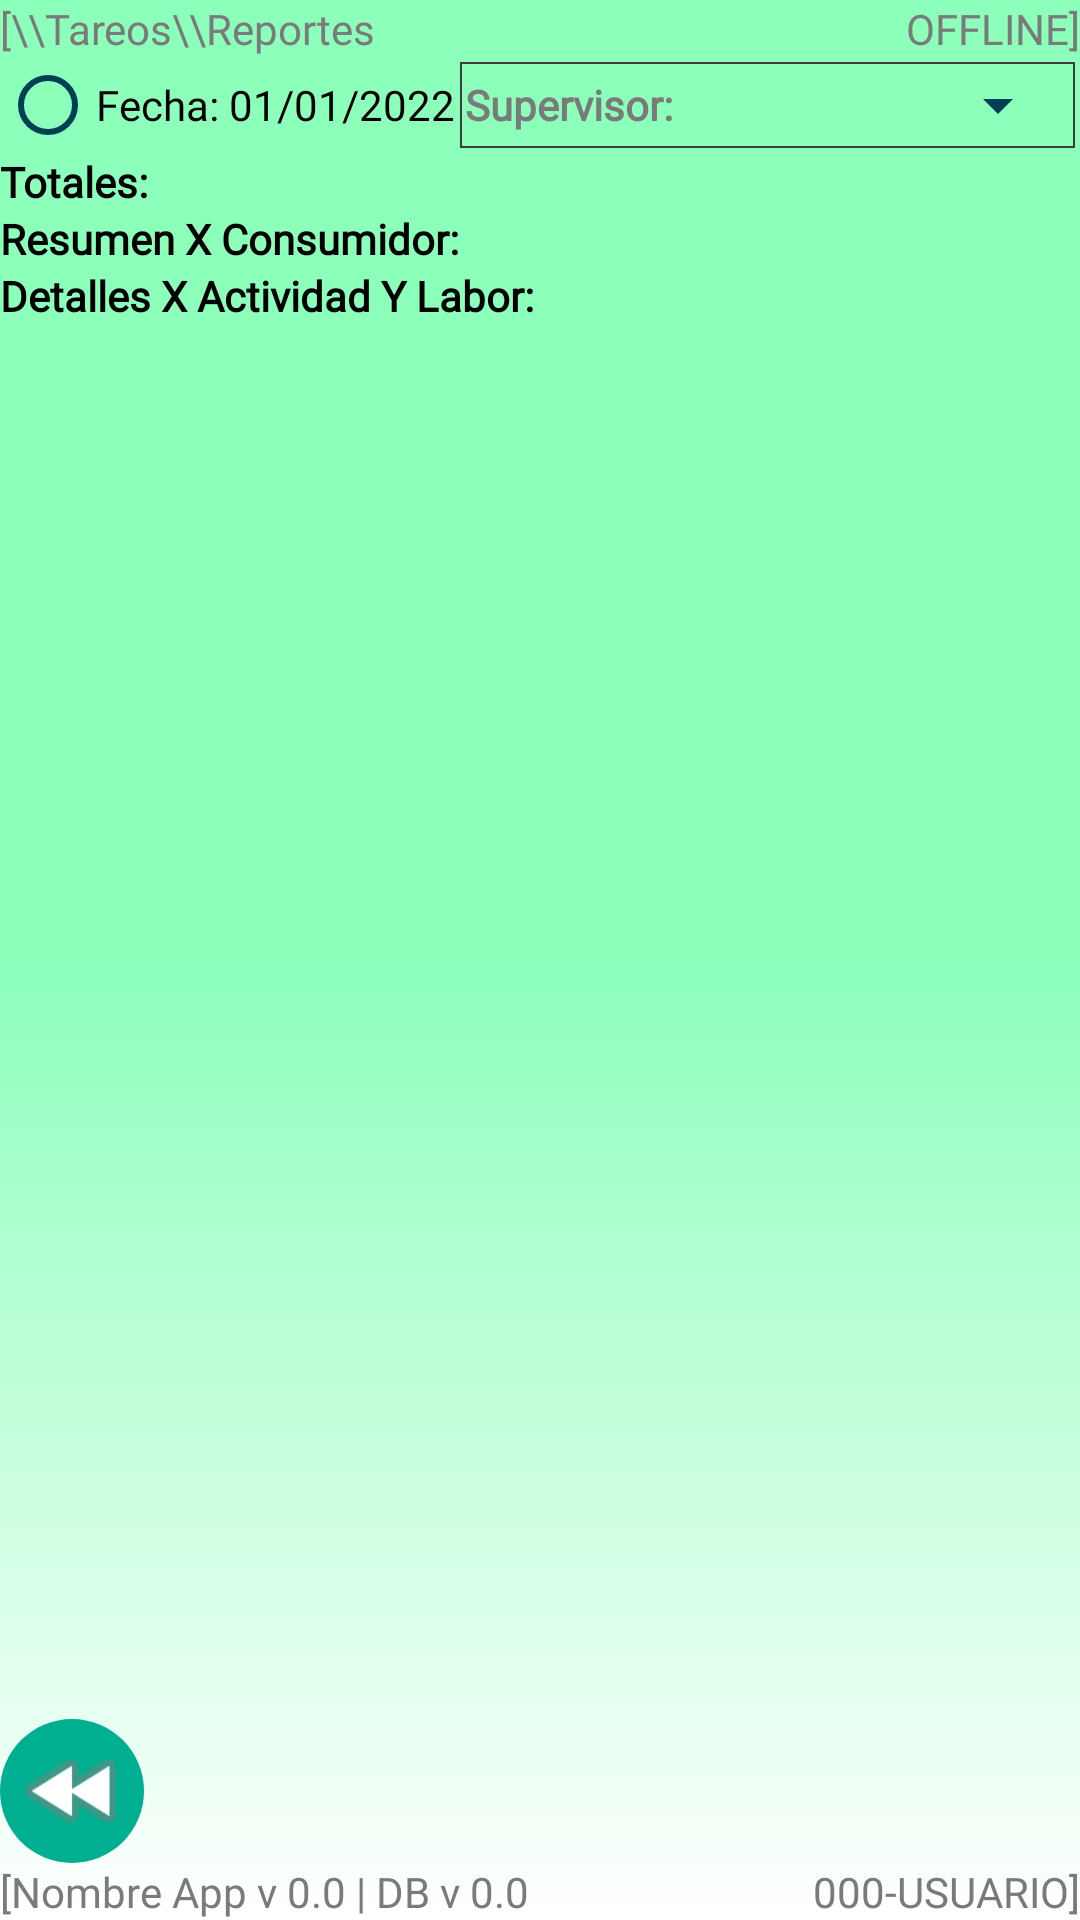

Named icons in this screenshot (1080×1920) and their centers, point (x, y):
rew: point (72, 1791)
